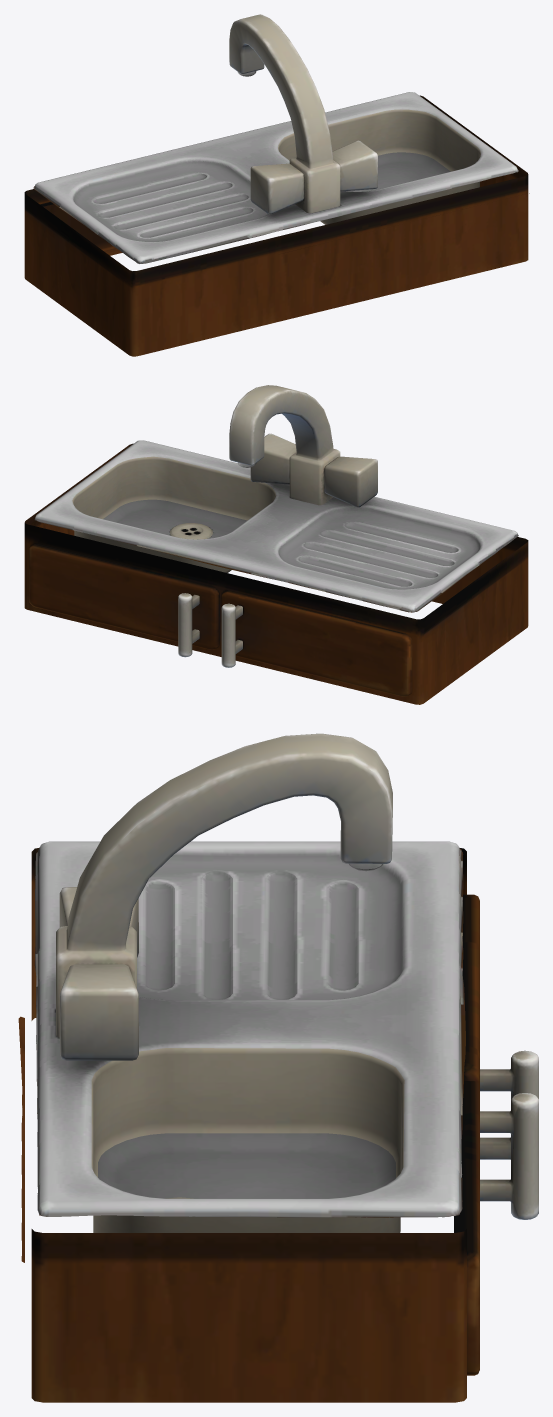
Rendered from m_sk_sink_01.fbx.
3 renders of one model, top to bottom at view 1: azimuth 30°, elevation 25°; view 2: azimuth 150°, elevation 25°; view 3: azimuth 270°, elevation 25°, orthographic. The views are drawn at different scales.
Parts seen in each view (by area): view 1: m_sk_sink_01_0; view 2: m_sk_sink_01_0; view 3: m_sk_sink_01_0.
Part boxes in pixels (bbox=[...]): m_sk_sink_01_0: bbox=[24, 14, 529, 356]; m_sk_sink_01_0: bbox=[24, 385, 528, 704]; m_sk_sink_01_0: bbox=[18, 733, 538, 1402].
Bounding box in the file's own units: 2.4 × 1.31 × 1.34.
